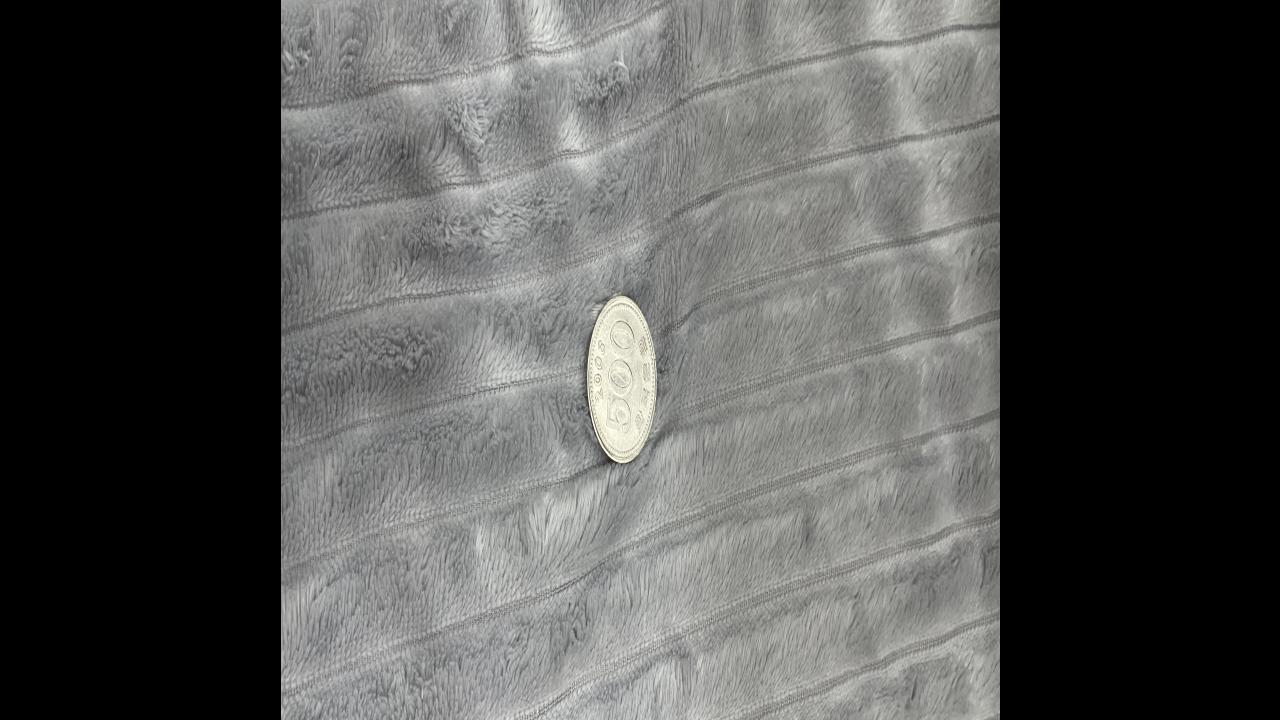coin: (584, 294, 658, 472)
